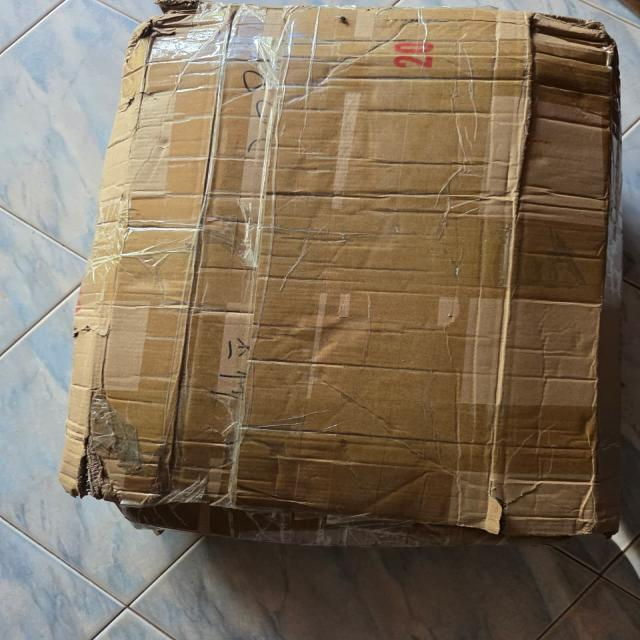carton_box: (46, 4, 640, 558)
package_damage: (46, 364, 614, 550), (107, 0, 301, 75), (523, 5, 640, 69), (56, 298, 122, 352)
